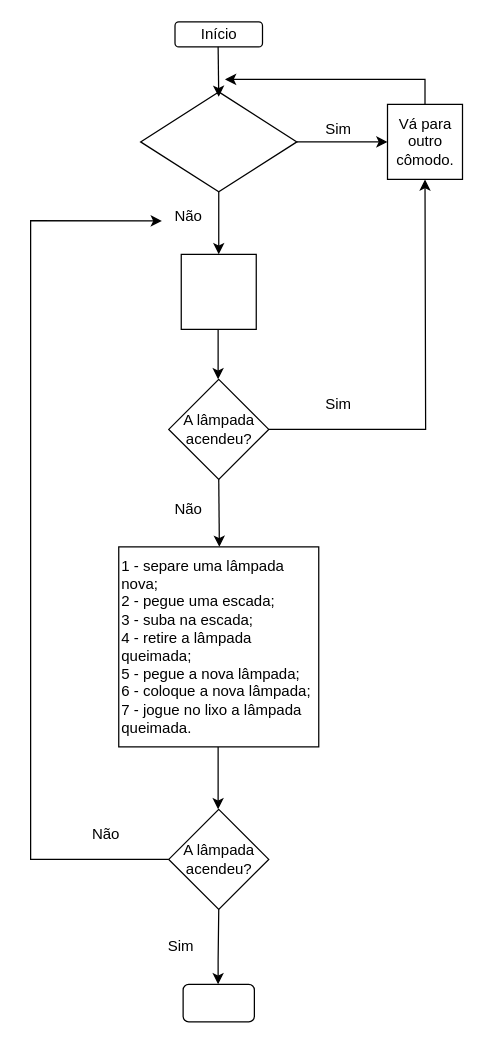
Image size: 485x1044. Some labels were removed from this diagram. Each missing label, with the box of its shape:
A lâmpada está acesa?: (139, 91, 297, 192)
Aperte o interruptor: (180, 253, 256, 329)
Fim: (182, 983, 254, 1022)
